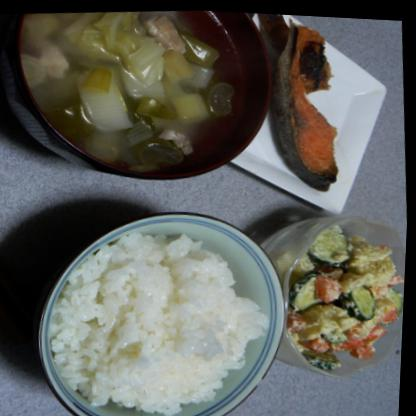rice ball: (39, 223, 283, 415)
